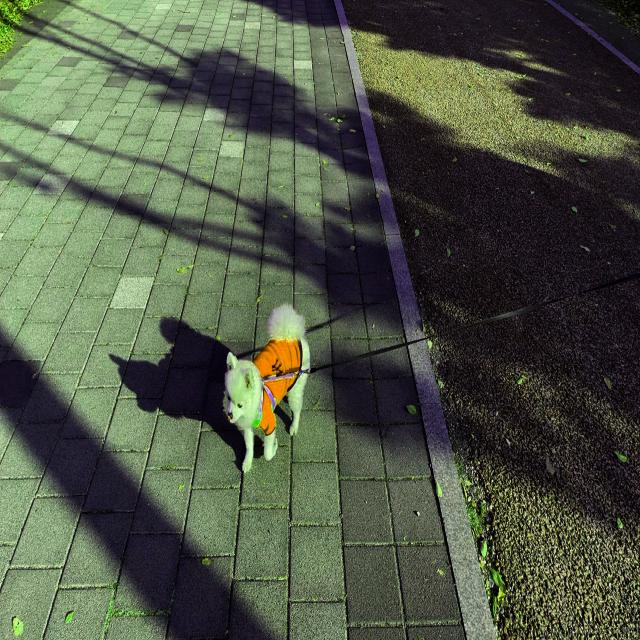Dog: (224, 301, 311, 474)
